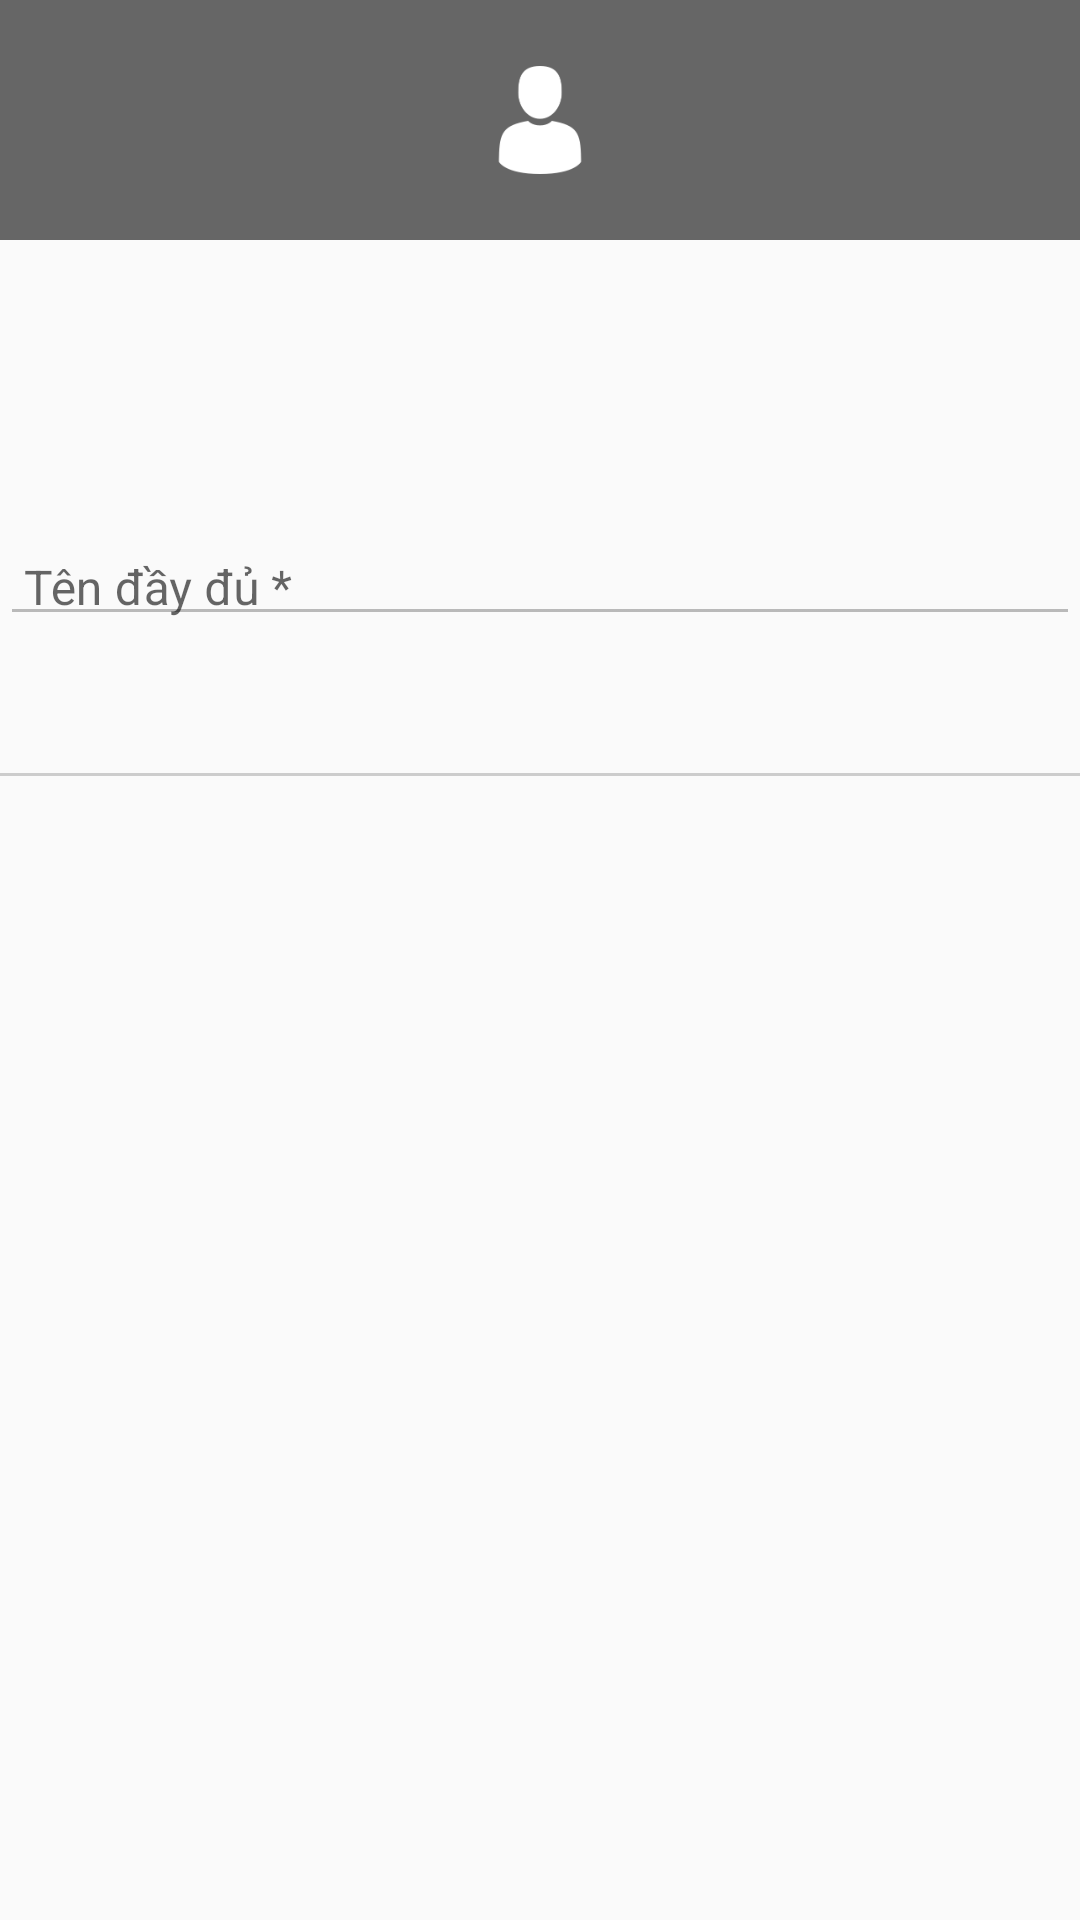

Icons on this 1080x1920 Android screen, each with the point to tap as (x,y):
customer: (540,120)
